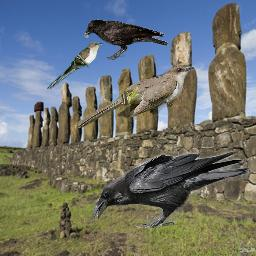Crow: (93, 151, 250, 228), (83, 19, 168, 60)
Cuckoo: (76, 65, 194, 128), (46, 41, 105, 91)
